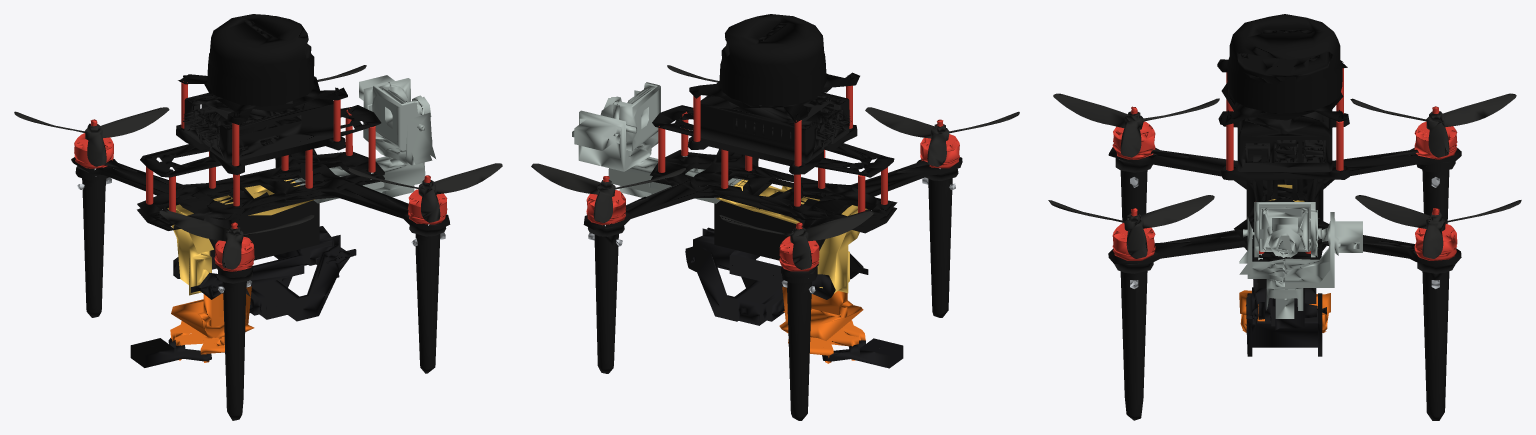
File: shadow_mk1_world.glb
3 renders of one model, left to right at view 1: azimuth 30°, elevation 25°; view 2: azimuth 150°, elevation 25°; view 3: azimuth 270°, elevation 25°, orthographic. The views are drawn at different scales.
Visible parts, largest first — view 1: airframe, compute_stack, lidar_head_mesh, navio2, forearm_mesh, foot_1, lidar_base, foot_4, foot_3, claw_base_mesh, upper_arm_mesh, gimbal_pan_link_mesh (+13 smaller); view 2: airframe, compute_stack, lidar_head_mesh, navio2, forearm_mesh, foot_3, gimbal_pan_link_mesh, foot_2, foot_4, lidar_base, claw_base_mesh, upper_arm_mesh (+13 smaller); view 3: airframe, lidar_head_mesh, compute_stack, gimbal_pan_link_mesh, lidar_base, foot_2, foot_1, gimbal_tilt_link_mesh, forearm_mesh, navio2, prop_4_mesh, prop_3_mesh (+13 smaller).
Boxes of the visible parts, x1,y1,x2,y2 form: airframe: (71,149,450,277); compute_stack: (183,92,333,162); lidar_head_mesh: (209,14,311,79); navio2: (140,105,381,177); forearm_mesh: (246,235,356,321); foot_1: (409,225,446,373); lidar_base: (207,53,314,106); foot_4: (218,269,252,420); foot_3: (75,166,108,317); claw_base_mesh: (170,286,254,362); upper_arm_mesh: (173,226,340,299); gimbal_pan_link_mesh: (359,75,435,166); airframe: (583,149,962,278); compute_stack: (700,92,851,162); lidar_head_mesh: (721,14,824,79); navio2: (652,105,894,177); forearm_mesh: (685,227,784,325); foot_3: (782,267,817,420); gimbal_pan_link_mesh: (572,90,658,171); foot_2: (588,225,624,373); foot_4: (925,169,958,317); lidar_base: (719,53,826,105); claw_base_mesh: (779,286,865,363); upper_arm_mesh: (691,228,868,299); airframe: (1108,147,1461,288); lidar_head_mesh: (1229,14,1340,84); compute_stack: (1237,110,1332,171); gimbal_pan_link_mesh: (1239,212,1362,287); lidar_base: (1227,57,1342,113); foot_2: (1417,262,1455,420); foot_1: (1114,262,1153,420); gimbal_tilt_link_mesh: (1243,202,1321,257); forearm_mesh: (1245,287,1322,356); navio2: (1220,113,1349,201); prop_4_mesh: (1053,93,1219,157); prop_3_mesh: (1350,93,1516,157).
Bounding box in the file's own units: 255 × 244 × 310.
